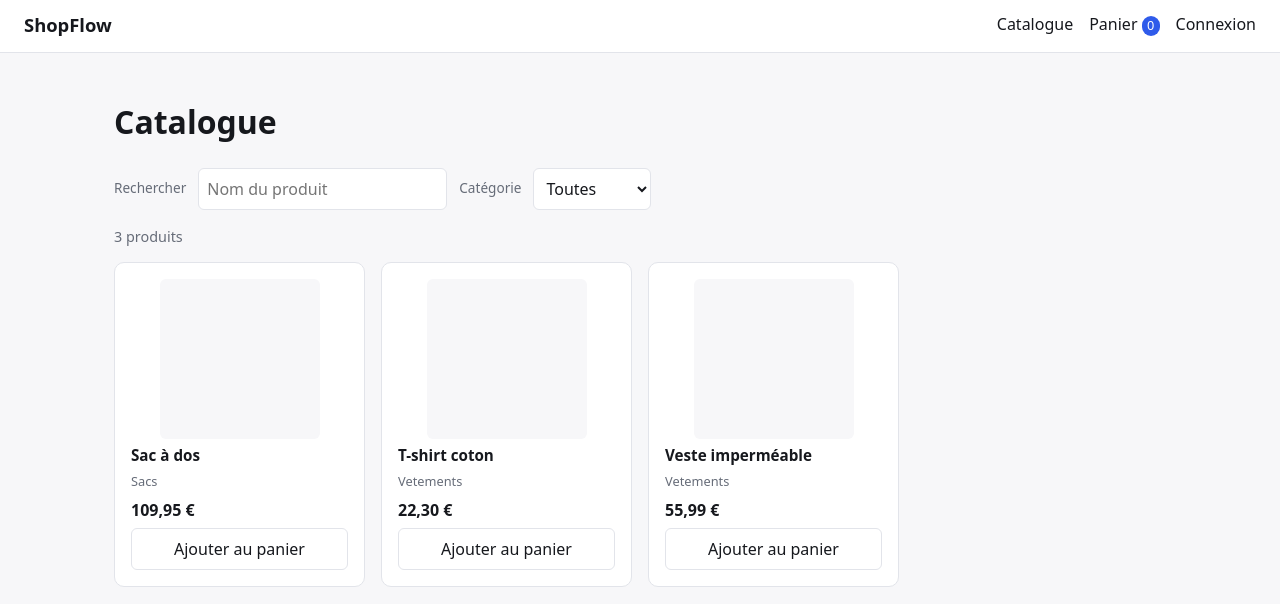
it: CatalogPage › filtre par recherche textuelle
Expected: the element with test id "product-1" is shown, 114,262 -> 365,587
Type "veste" into the search field labelled "Rechercher" at point(323, 189), box 198,168 -> 447,210
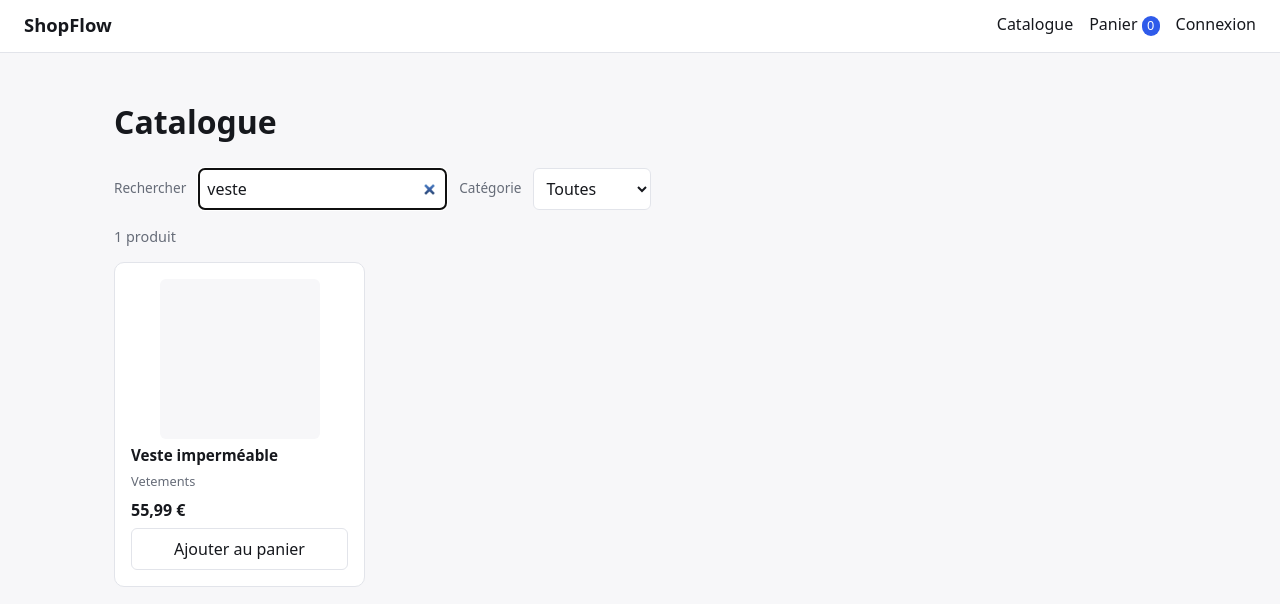
Now the text with test id "result-count" reads "1 produit", box 114,227 -> 176,246
